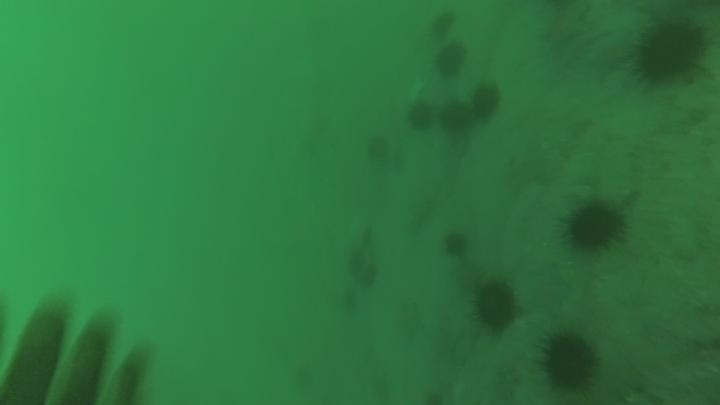echinus: (629, 17, 709, 86), (535, 328, 603, 394), (560, 198, 629, 254), (470, 278, 521, 334), (468, 81, 504, 123), (432, 41, 469, 79), (438, 99, 475, 137), (404, 98, 436, 134), (439, 228, 472, 260), (427, 9, 459, 40), (363, 133, 392, 164)
starfish: (521, 262, 574, 317), (535, 6, 589, 53), (584, 35, 635, 78)
